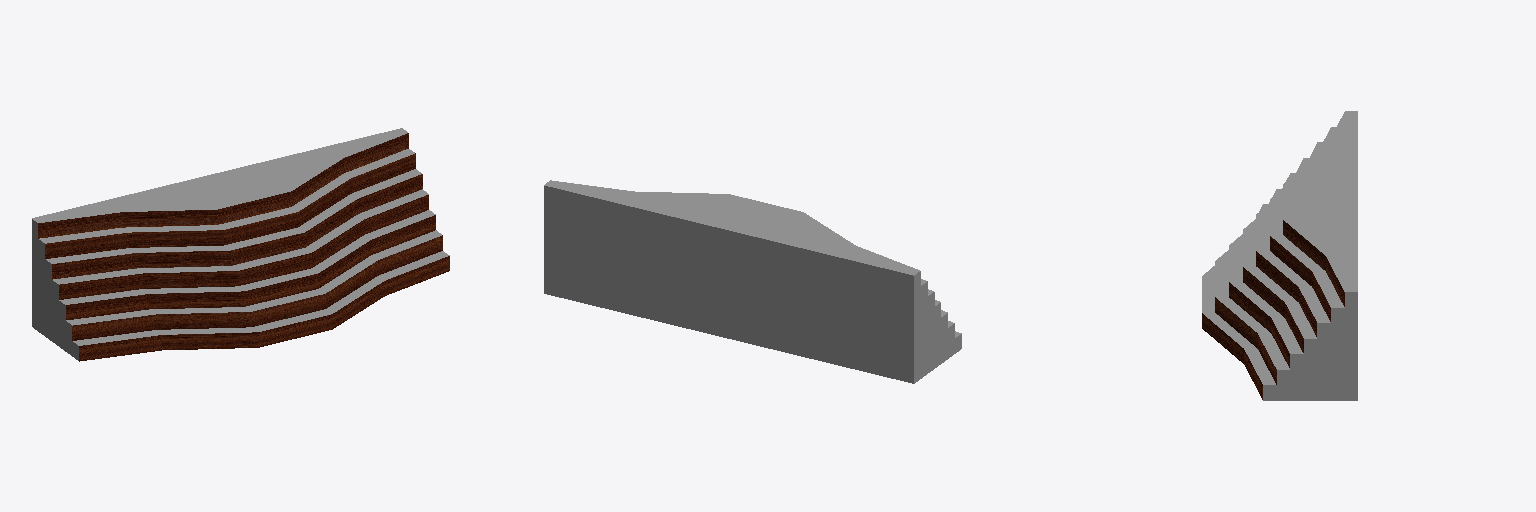
The picture shows the model from 3 angles: view 1: azimuth 30°, elevation 25°; view 2: azimuth 150°, elevation 25°; view 3: azimuth 270°, elevation 25°; orthographic projection.
Parts seen in each view (by area): view 1: Cube_Cube.108; view 2: Cube_Cube.108; view 3: Cube_Cube.108.
Boxes of the visible parts, box(x1,y1,x2,y2) form: Cube_Cube.108: box(32, 128, 449, 361); Cube_Cube.108: box(544, 180, 961, 383); Cube_Cube.108: box(1202, 111, 1357, 400).
Bounding box in the file's own units: 11.63 × 3.25 × 4.26.
Materials: 2 (1 with a texture image).